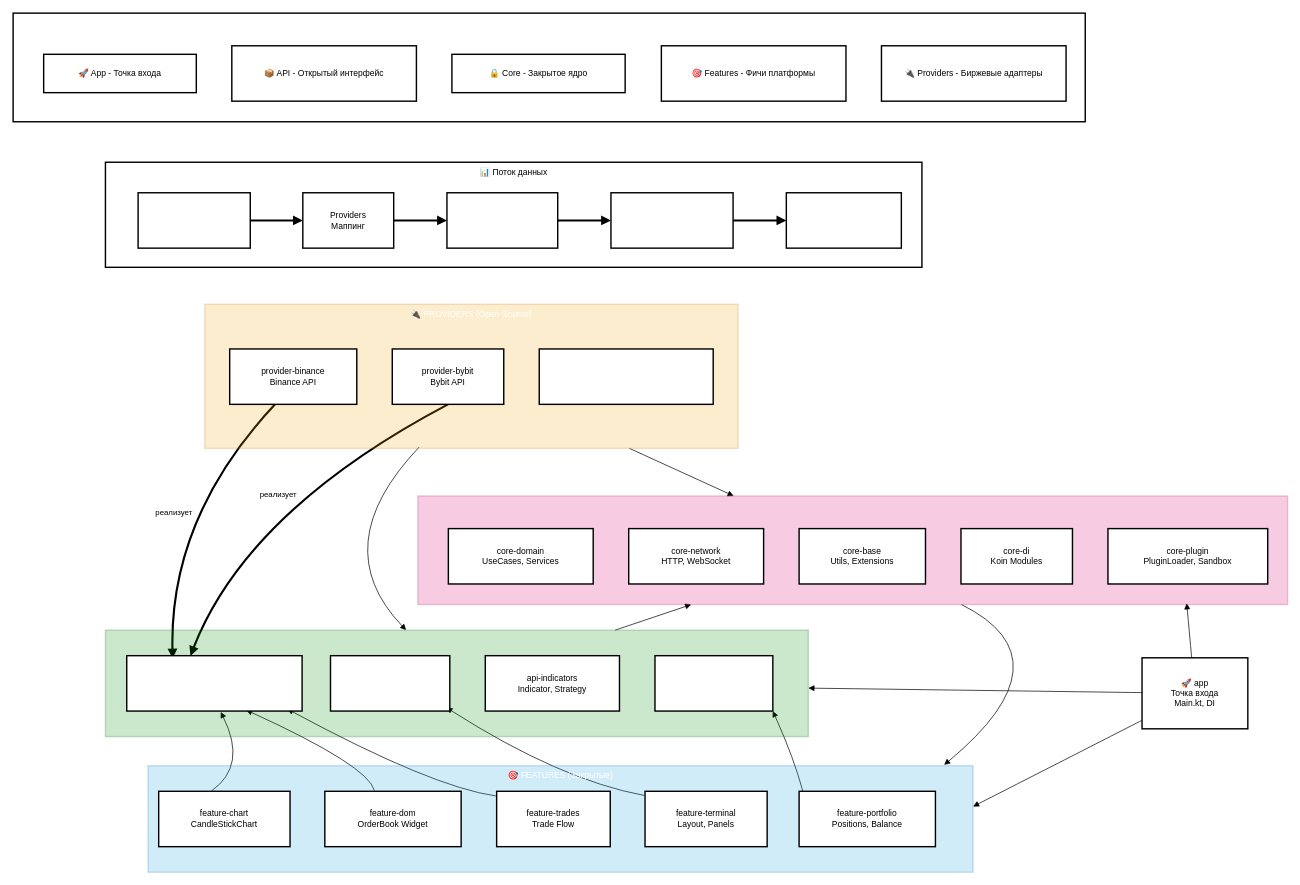
This 1300x885 diagram has some shape labels left out. Here are the shapes that lost their labels. From the top down, the box of each, then its label:
(12, 12, 1086, 122): 📋 Легенда
(137, 192, 251, 248): Binance/Bybit WebSocket
(446, 192, 558, 248): Public API Интерфейсы
(610, 192, 733, 248): Features ViewModel + UI
(785, 192, 902, 248): App Отображение
(538, 348, 714, 405): provider-template Шаблон для сообщества
(417, 495, 1288, 605): 🔒 PLATFORM CORE (Закрытый IP)
(126, 655, 302, 711): api-market Candle, OrderBook, Trade
(329, 655, 450, 711): api-ui Widget, Events
(104, 629, 809, 737): 📦 PUBLIC API (Open Source)
(654, 655, 773, 711): api-trading Order, Position
